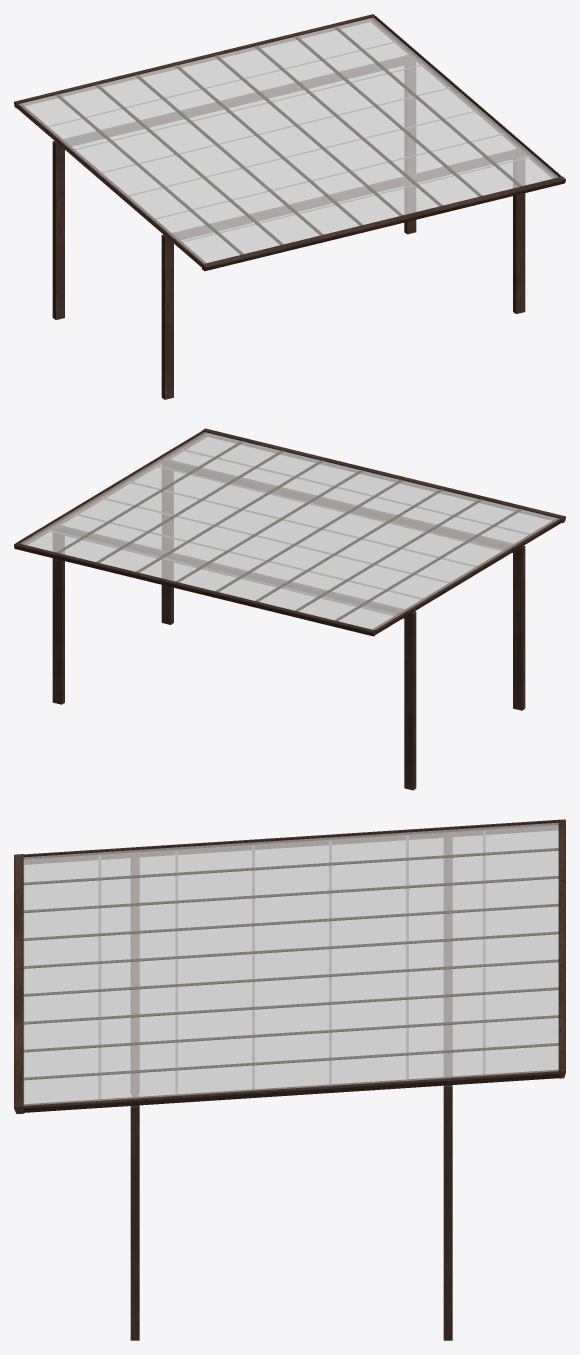
Rendered from APwide_5450-22_darkpine.fbx.
The picture shows the model from 3 angles, top to bottom: view 1: azimuth 30°, elevation 25°; view 2: azimuth 150°, elevation 25°; view 3: azimuth 270°, elevation 25°; orthographic projection. The views are drawn at different scales.
Parts seen in each view (by area): view 1: APwide_5450-22_darkpine; view 2: APwide_5450-22_darkpine; view 3: APwide_5450-22_darkpine.
Boxes of the visible parts, bbox=[...] form: APwide_5450-22_darkpine: bbox=[14, 14, 565, 399]; APwide_5450-22_darkpine: bbox=[14, 428, 565, 790]; APwide_5450-22_darkpine: bbox=[14, 819, 565, 1340].
Size of the model in its own units: 535 by 266 by 494.
4 materials, 3 textured.
